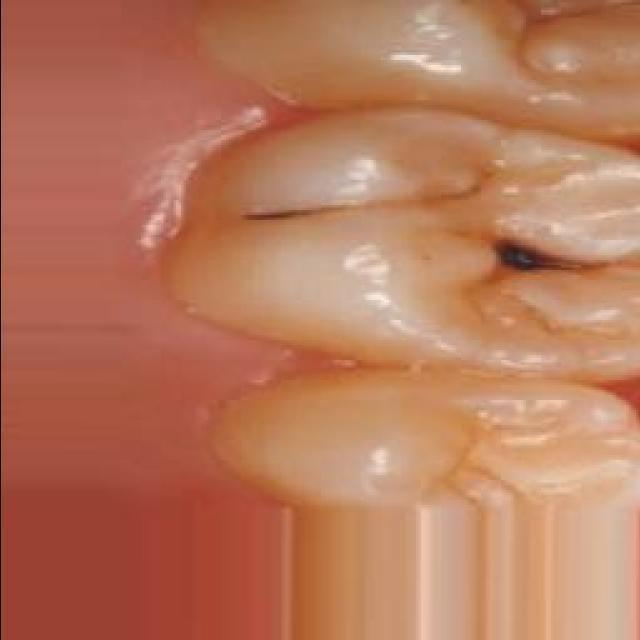decay: (488, 208, 573, 288)
